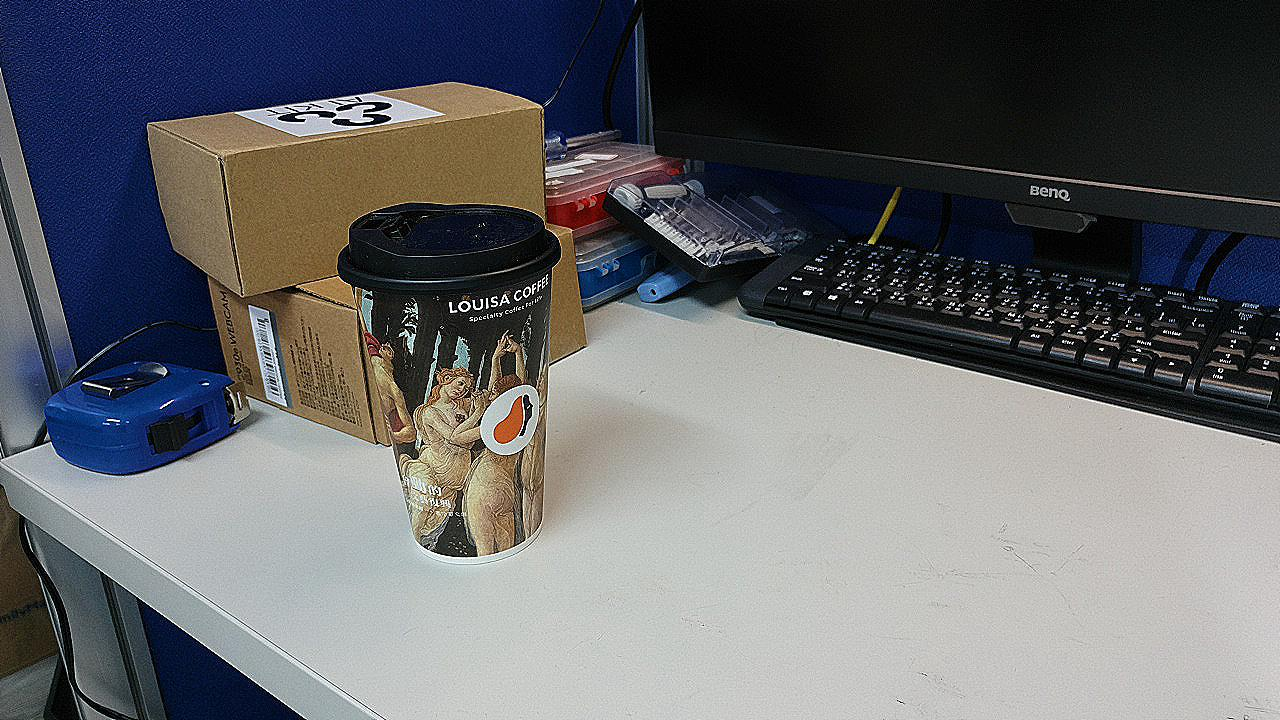long: (488, 348, 762, 509)
